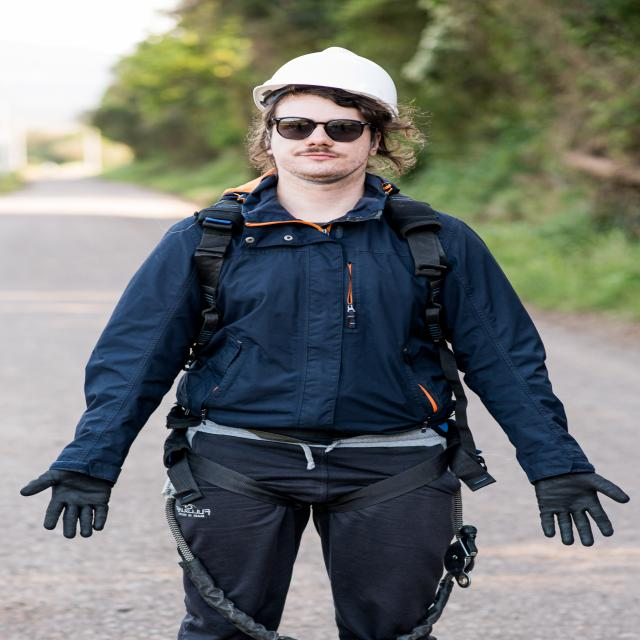capacete: (248, 42, 406, 125)
corda de vida: (150, 182, 496, 544)
luva: (14, 453, 130, 542), (527, 459, 634, 551)
